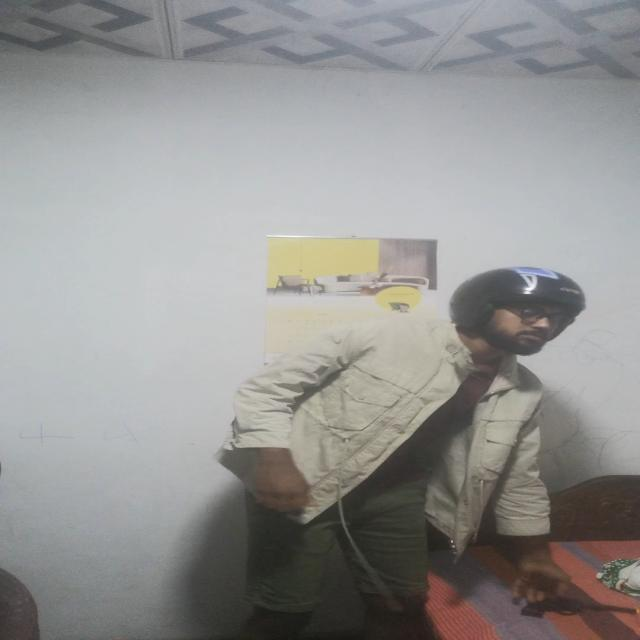Gun_Holder: (498, 581, 640, 631)
Helmet_Wearer: (430, 261, 598, 347)
Jacket_Wearer: (213, 312, 594, 556)
Person: (218, 264, 640, 640)
